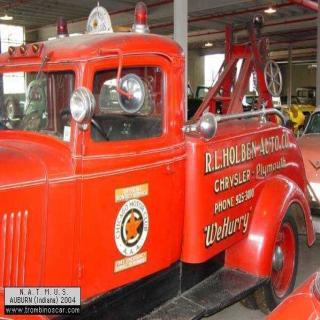Towing_truck: (1, 1, 316, 318)
